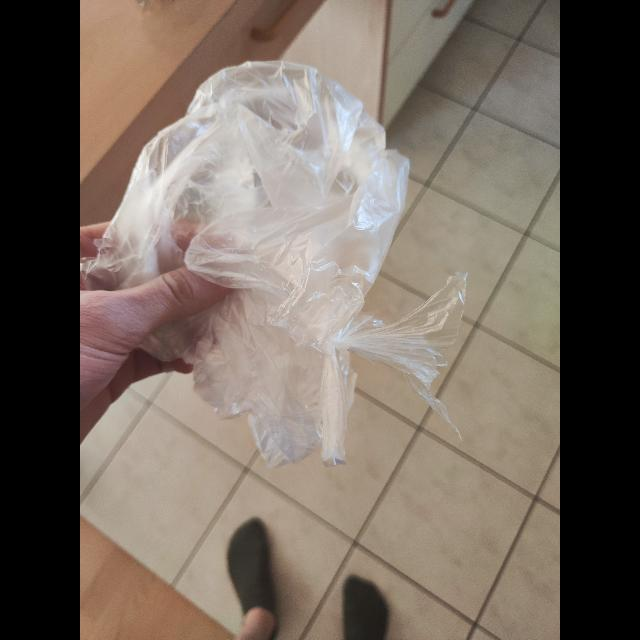Plastic: (90, 59, 468, 467)
